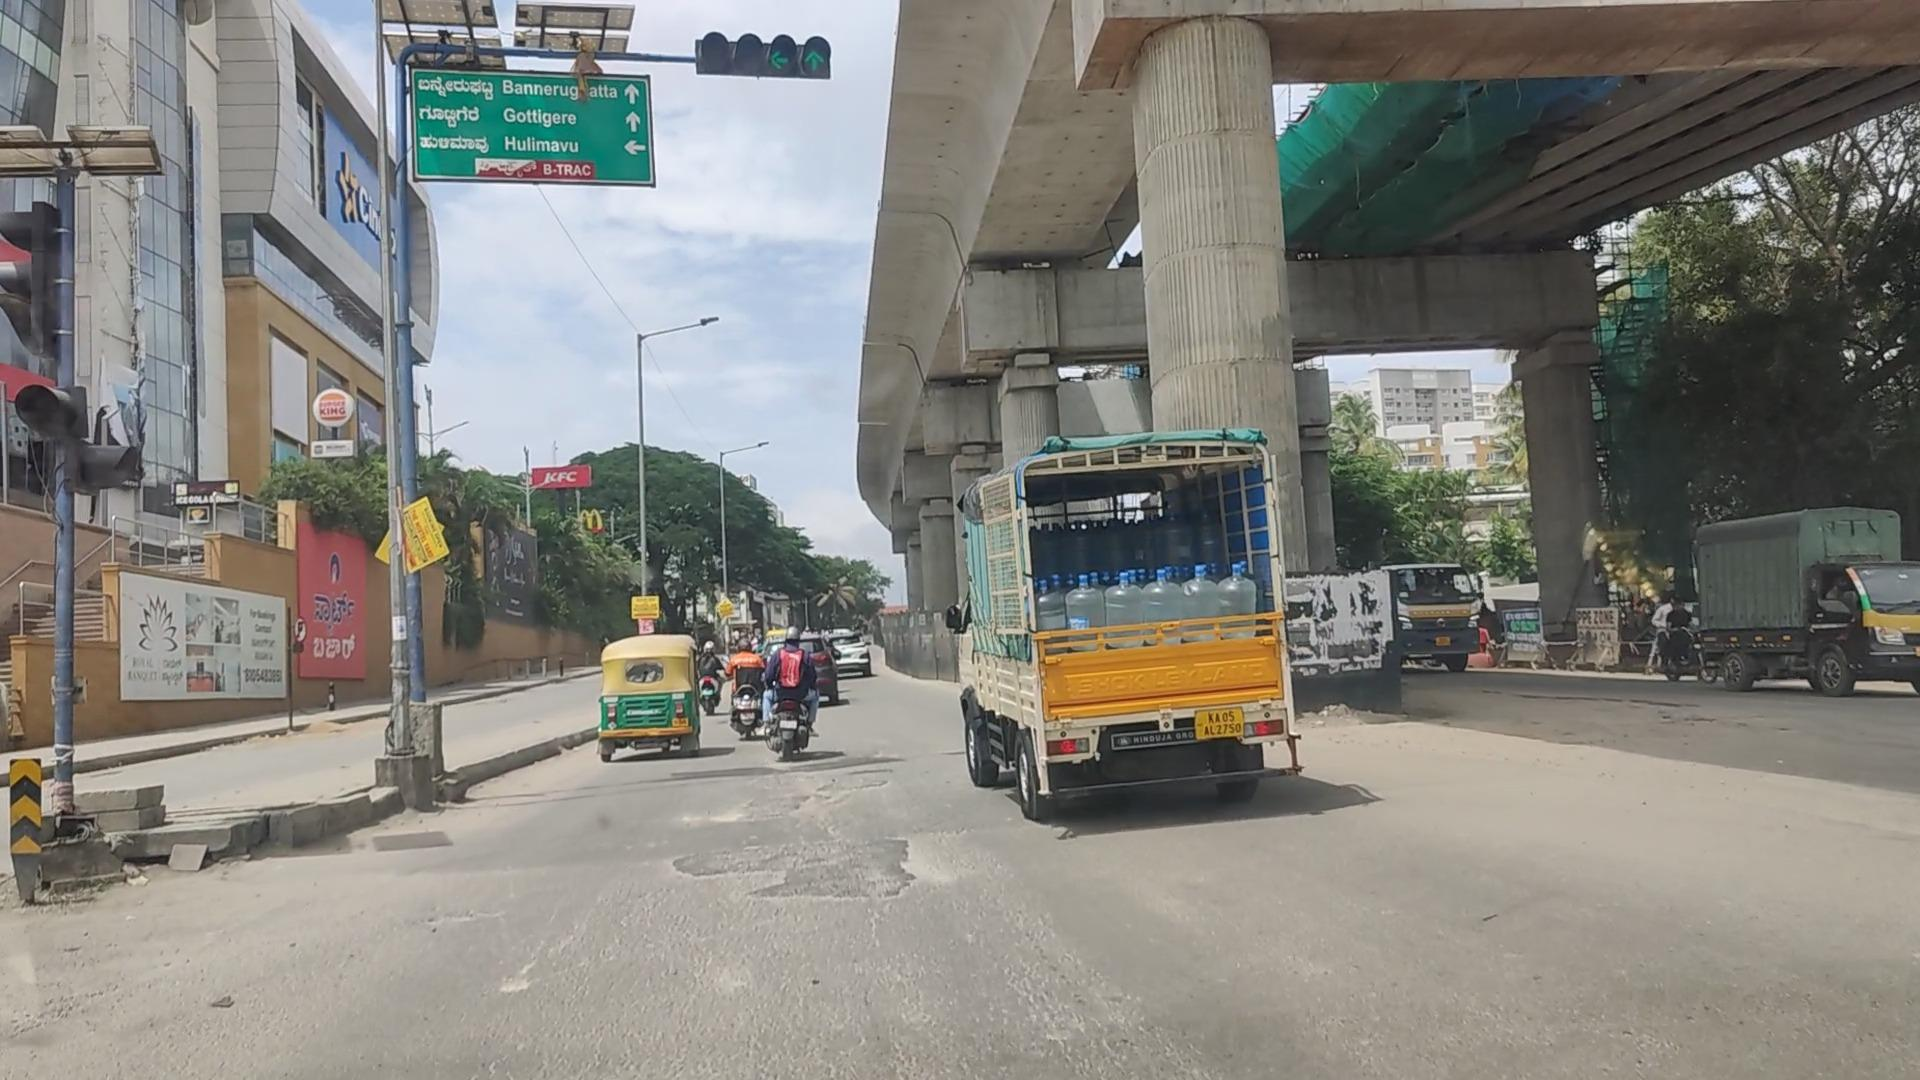HMV: (971, 430, 1320, 810)
LMV: (603, 634, 712, 760), (767, 626, 822, 771)
RoadDamages: (796, 848, 923, 905), (682, 832, 777, 882)
